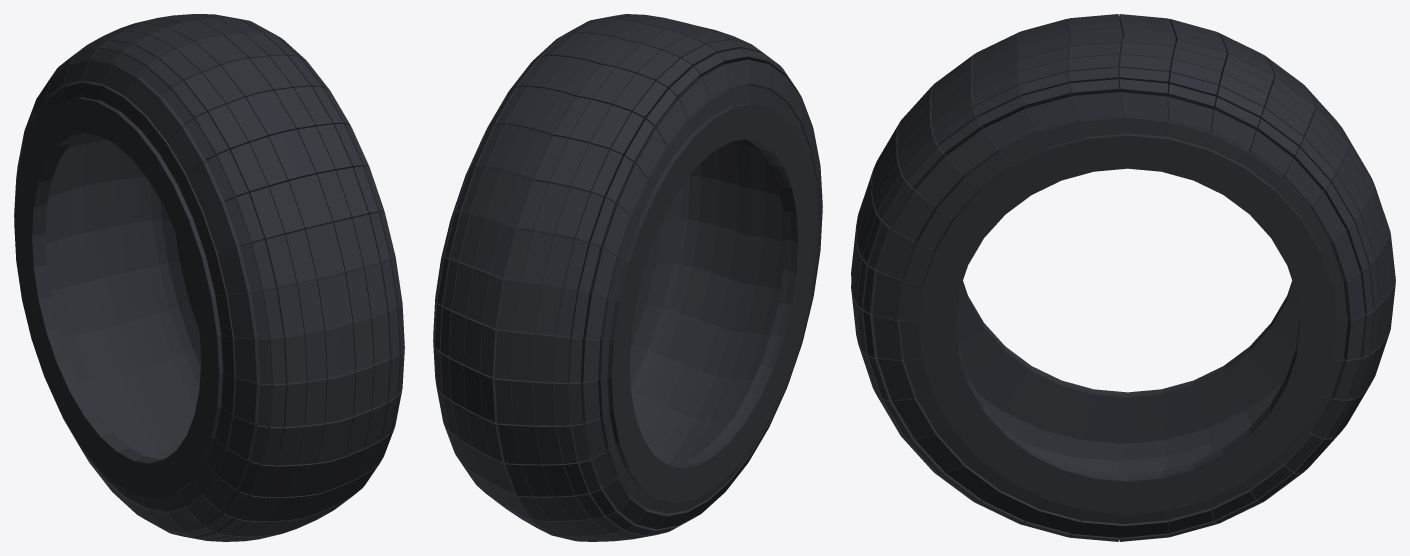
Rendered from CarTires.fbx.
The picture shows the model from 3 angles, left to right: view 1: azimuth 30°, elevation 25°; view 2: azimuth 150°, elevation 25°; view 3: azimuth 270°, elevation 25°; orthographic projection. The views are drawn at different scales.
Parts seen in each view (by area): view 1: Tyre; view 2: Tyre; view 3: Tyre.
Boxes of the visible parts, box(x1,y1,x2,y2) form: Tyre: box(14, 14, 404, 541); Tyre: box(433, 14, 822, 541); Tyre: box(851, 14, 1395, 541).
Bounding box in the file's own units: 27.89 × 71.9 × 71.95.
1 material, 1 textured.
